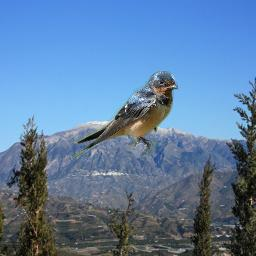Swallow: (70, 71, 178, 162)
